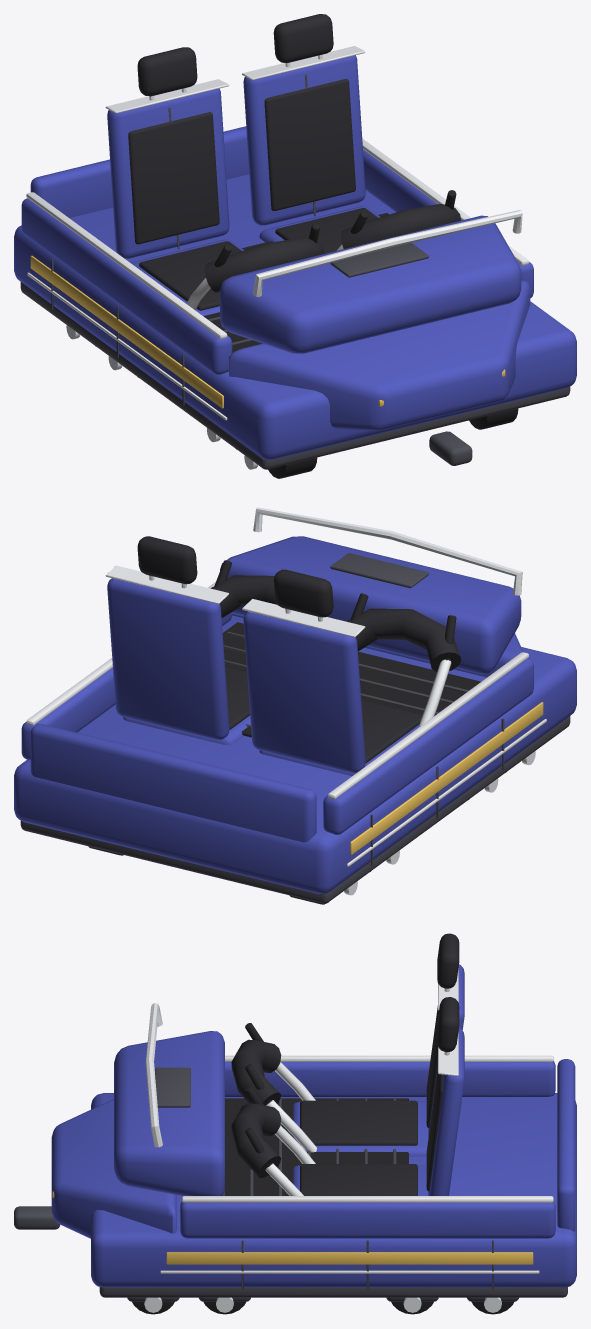
The model's file is coaster_car.glb.
3 renders of one model, top to bottom at view 1: azimuth 30°, elevation 25°; view 2: azimuth 150°, elevation 25°; view 3: azimuth 270°, elevation 25°, orthographic. The views are drawn at different scales.
Parts seen in each view (by area): view 1: coaster_car; view 2: coaster_car; view 3: coaster_car.
Part boxes in pixels (left/top/right/bottom): coaster_car: left=14, top=14, right=576, bottom=478; coaster_car: left=14, top=507, right=576, bottom=904; coaster_car: left=14, top=933, right=576, bottom=1314.
Bounding box in the file's own units: 1.98 × 1.76 × 3.15.
